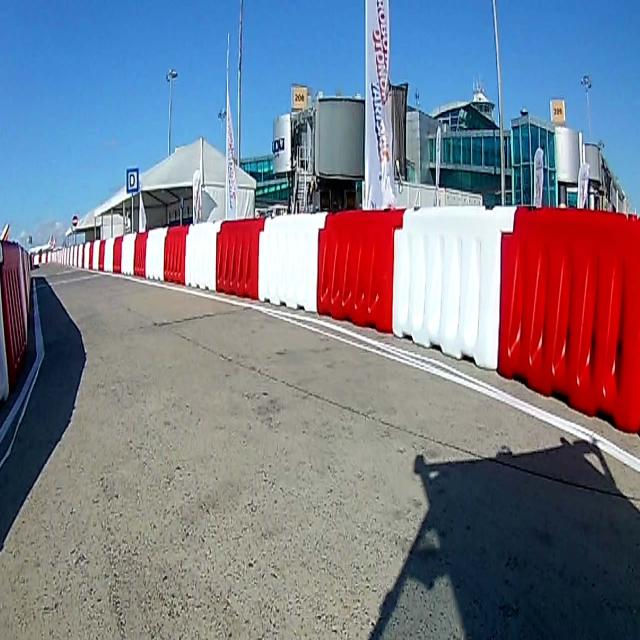durak: (126, 168, 139, 194)
